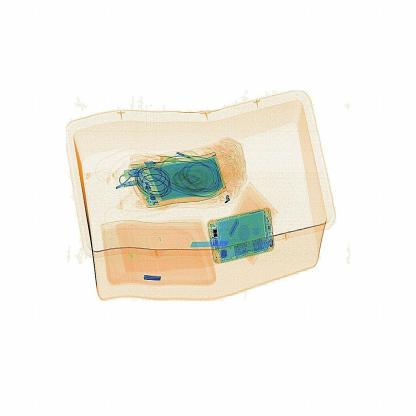pliers: (180, 232, 237, 252)
